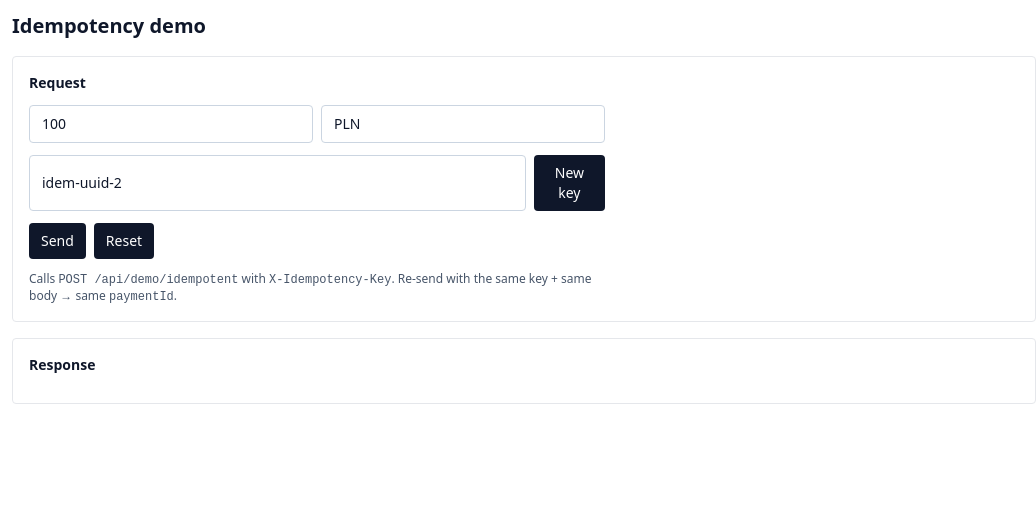
Test: Idempotent demo page › sends request using demoIdempotent(body, key) and shows response
Replace the text in the 1st field with placeholder "Amount" with "250" at (171, 124), box [29,105,313,143]
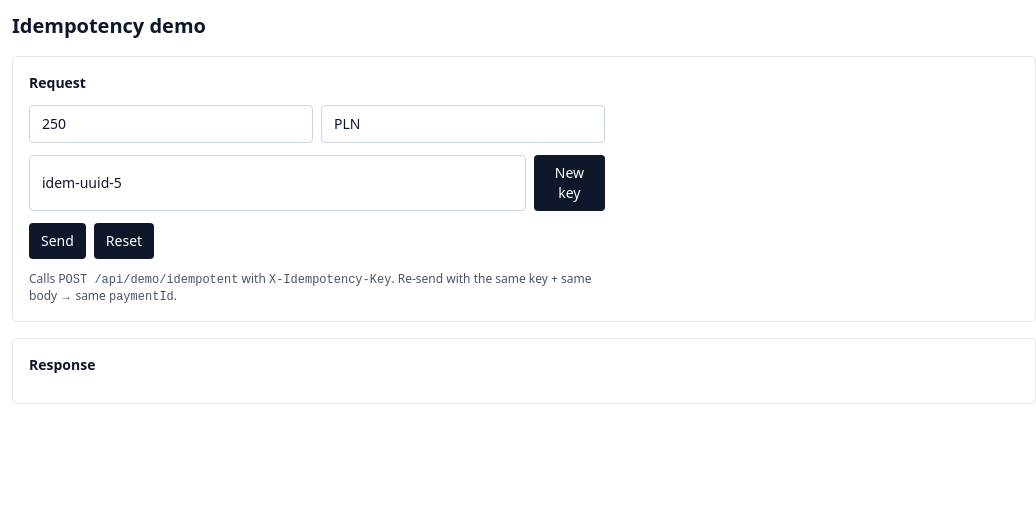
Replace the text in the 2nd field with placeholder "Currency" with "EUR" at (463, 124), box [321,105,605,143]
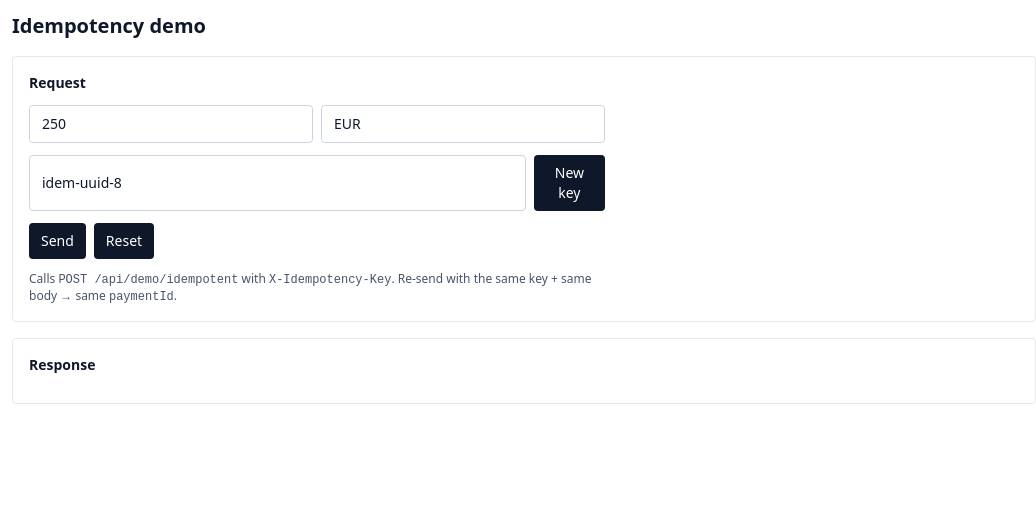
Replace the text in the 3rd field with placeholder "X-Idempotency-Key" with "k-123" at (277, 183), box [29,155,526,211]
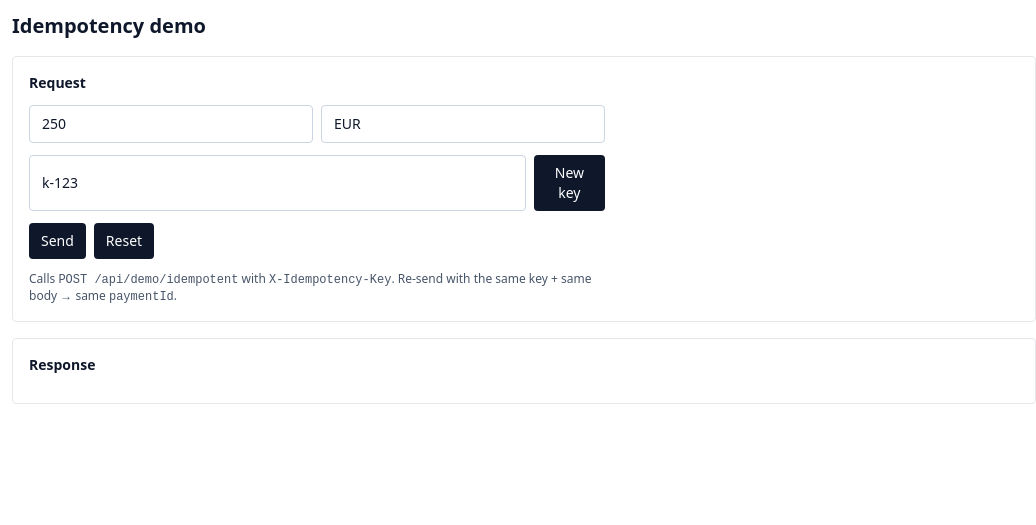
Click the button "Send" at (57, 241), box [29,223,86,259]
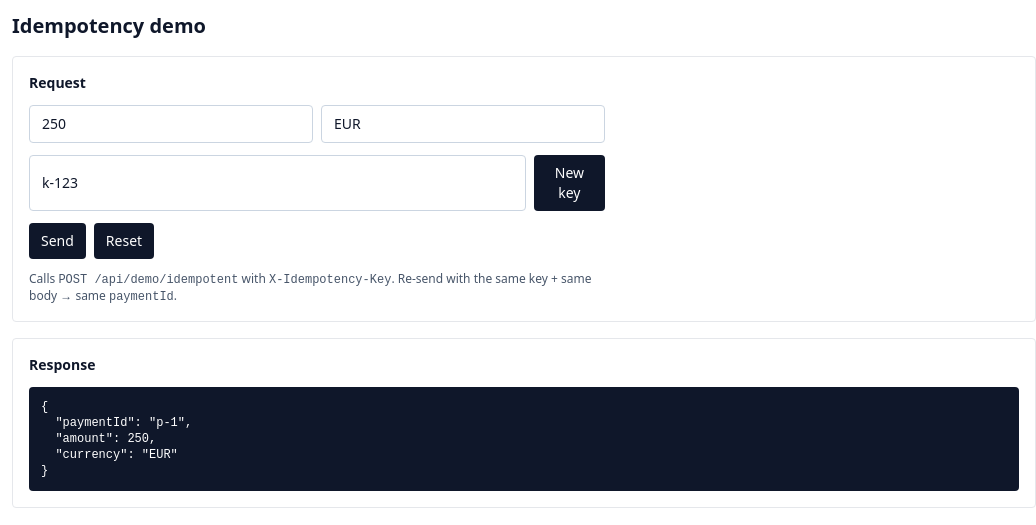
Now the text "{ \"paymentId\": \"p-1\", \"amount\": 250, \"currency\": \"EUR\" }" is shown, box [29,387,1019,491]
